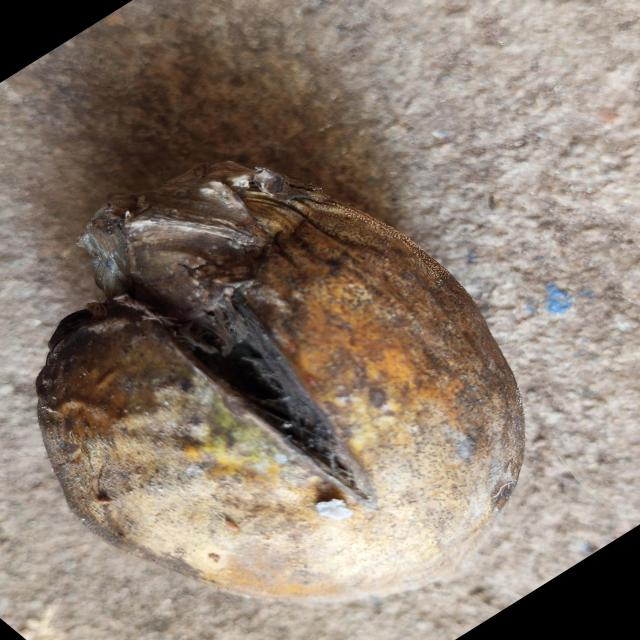damaged: (37, 162, 524, 598)
